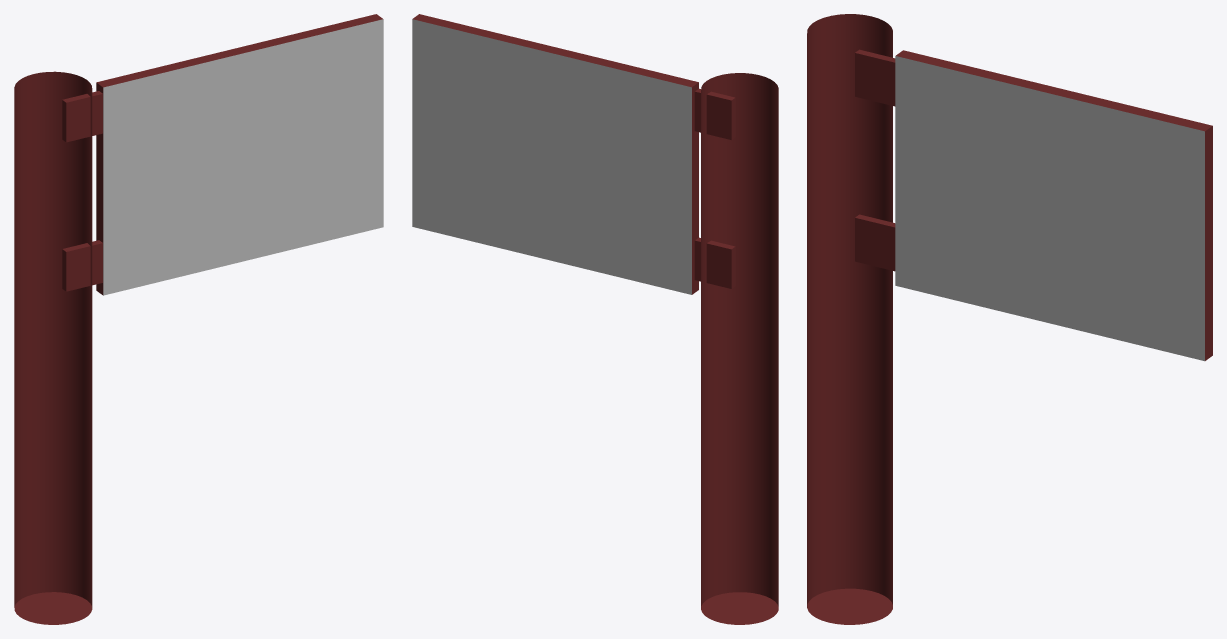
Rendered from flaga.gltf.
The picture shows the model from 3 angles, left to right: view 1: azimuth 30°, elevation 25°; view 2: azimuth 150°, elevation 25°; view 3: azimuth 330°, elevation 25°; orthographic projection. The views are drawn at different scales.
Visible parts, largest first — view 1: Plane, Cylinder, Plane.001, Plane.002; view 2: Plane, Cylinder, Plane.002, Plane.001; view 3: Plane, Cylinder, Plane.001, Plane.002.
Part boxes in pixels (x1,y1,x2,y2): Plane: [96, 14, 383, 295]; Cylinder: [14, 71, 92, 624]; Plane.001: [62, 91, 102, 142]; Plane.002: [62, 240, 102, 291]; Plane: [412, 14, 698, 294]; Cylinder: [701, 73, 778, 624]; Plane.002: [694, 237, 735, 288]; Plane.001: [694, 88, 735, 139]; Plane: [895, 50, 1212, 361]; Cylinder: [807, 14, 892, 624]; Plane.001: [855, 49, 895, 106]; Plane.002: [855, 214, 895, 271].
Bounding box in the file's own units: 1.16 × 1.6 × 0.2175.
